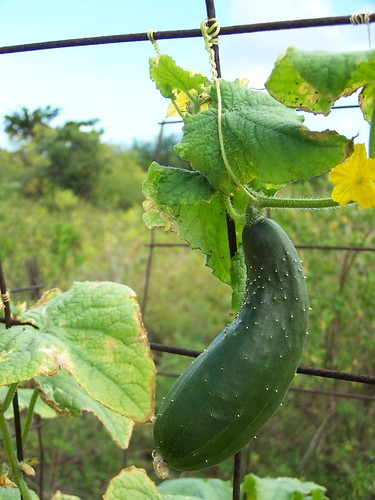cucumber: (151, 214, 307, 472)
